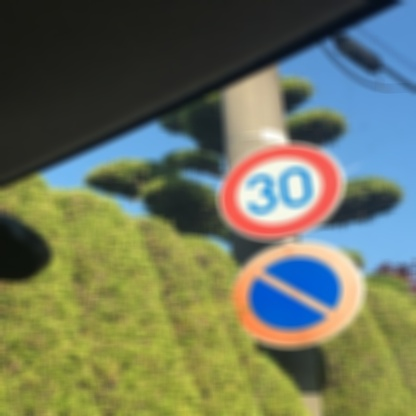Prohibition_sign: (205, 239, 401, 354)
Speed_sign: (208, 141, 356, 237)
